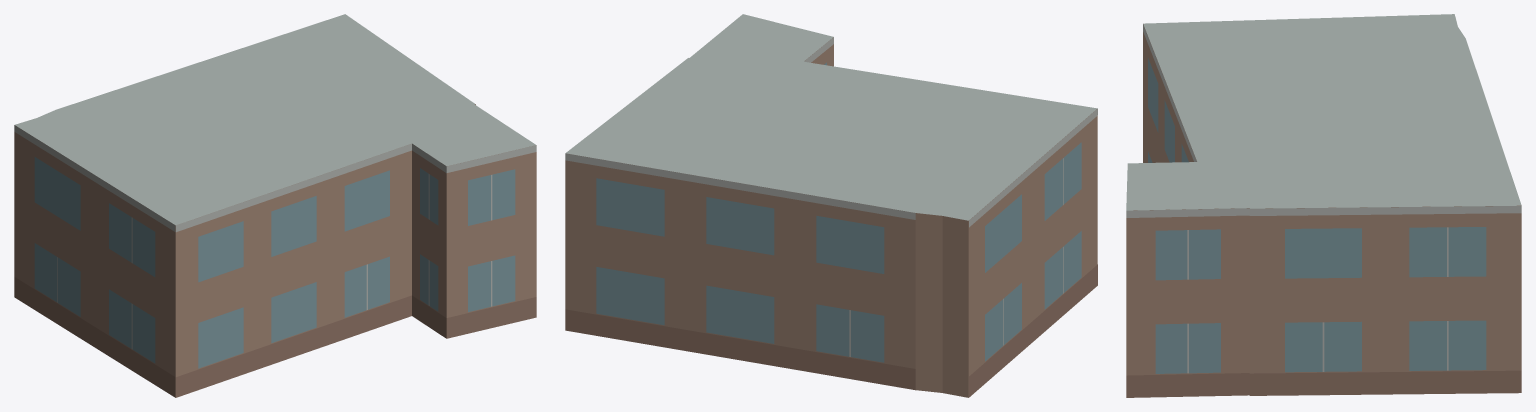
File: survey-upis-32981258.glb
3 views of the same model, side by side, from view 1: azimuth 30°, elevation 25°; view 2: azimuth 150°, elevation 25°; view 3: azimuth 270°, elevation 25° (orthographic). The views are drawn at different scales.
Visible parts, largest first — view 1: survey-upis-32981258.tmp; view 2: survey-upis-32981258.tmp; view 3: survey-upis-32981258.tmp.
Part boxes in pixels (left/top/right/bottom): survey-upis-32981258.tmp: left=14, top=14, right=536, bottom=397; survey-upis-32981258.tmp: left=565, top=14, right=1097, bottom=397; survey-upis-32981258.tmp: left=1126, top=14, right=1521, bottom=397.
Bounding box in the file's own units: 13.74 × 6.1 × 11.69.
